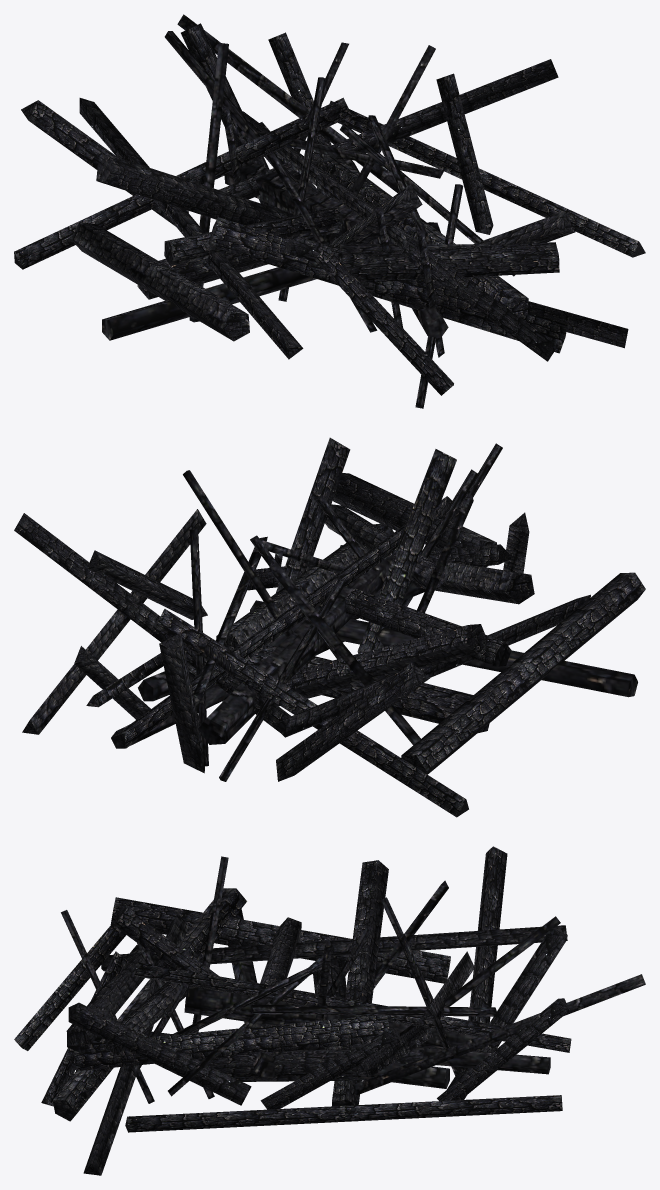
File: rubble_wood_3x3.dae
3 renders of one model, top to bottom at view 1: azimuth 30°, elevation 25°; view 2: azimuth 150°, elevation 25°; view 3: azimuth 270°, elevation 25°, orthographic. The views are drawn at different scales.
Visible parts, largest first — view 1: fireshipwood; view 2: fireshipwood; view 3: fireshipwood.
Boxes of the visible parts, x1=… form: fireshipwood: x1=14, y1=14, x2=645, y2=408; fireshipwood: x1=14, y1=437, x2=645, y2=817; fireshipwood: x1=14, y1=846, x2=645, y2=1175.
Size of the model in its own units: 17.7 by 8.06 by 20.1.
